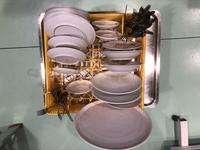Cutlery: (36, 86, 74, 122), (121, 5, 156, 43)
Dish: (74, 100, 152, 150), (92, 71, 143, 94), (91, 88, 142, 103), (101, 60, 144, 73), (44, 10, 89, 22), (45, 7, 92, 17), (101, 50, 144, 60), (102, 41, 143, 51), (66, 80, 93, 94), (106, 99, 142, 108), (95, 30, 122, 40), (92, 20, 120, 29)
Inclined_dish: (44, 13, 95, 44), (47, 47, 86, 66), (47, 35, 88, 51), (52, 67, 79, 75)
